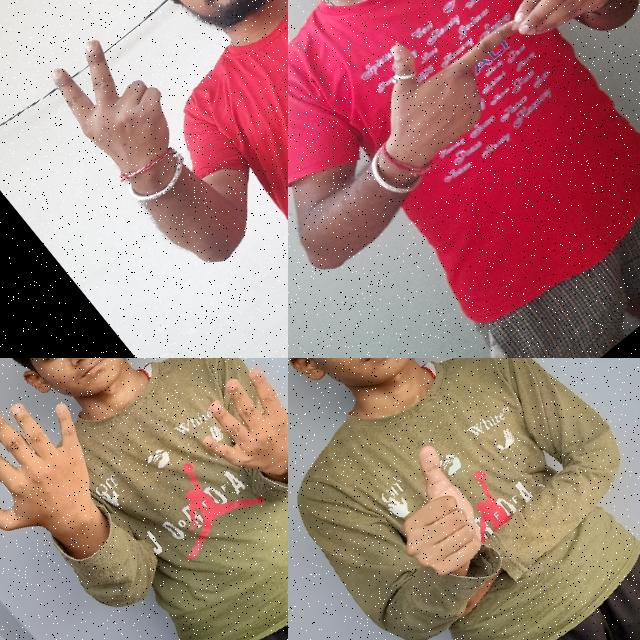Five Fathers: (327, 0, 640, 196)
Moutza: (0, 364, 137, 579), (166, 358, 288, 505)
Reversed Victory: (31, 18, 212, 208)
Thumbs Up: (356, 428, 518, 594)
